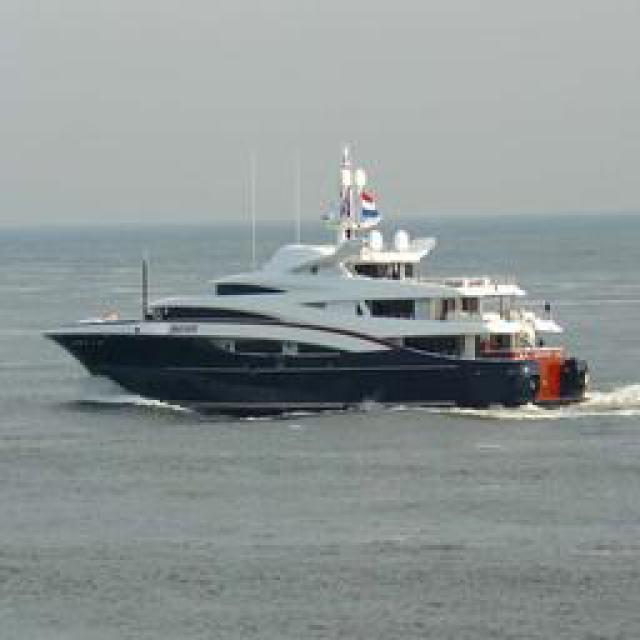Ship: (56, 224, 589, 414)
